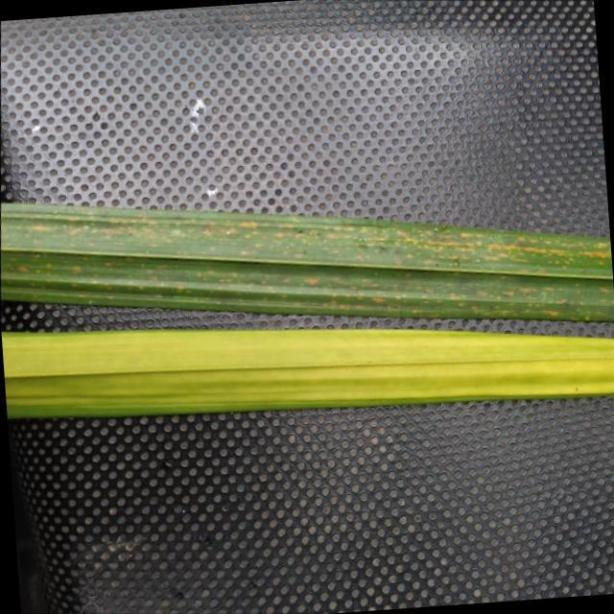nitrogen: (3, 198, 614, 320), (3, 327, 614, 423)
